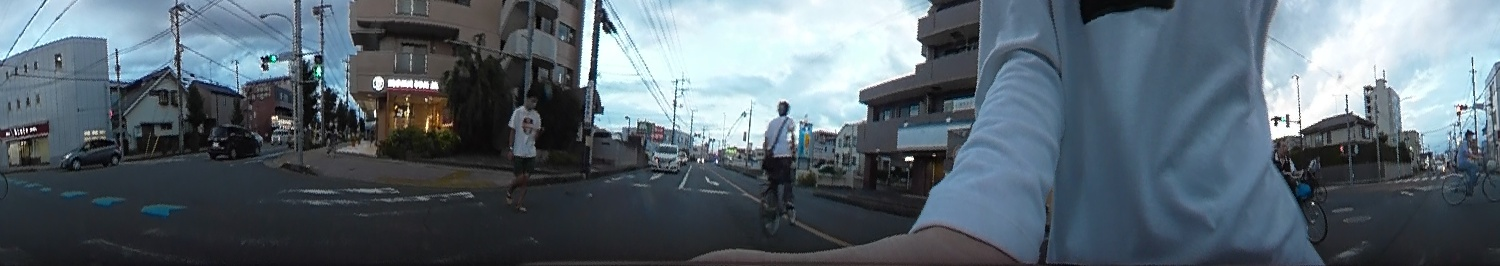difficult_person: (1268, 135, 1299, 194), (323, 118, 338, 150)
person: (753, 96, 802, 226), (505, 86, 544, 214), (1451, 126, 1479, 193)
